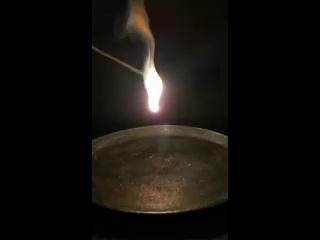Fire: (138, 23, 165, 114)
